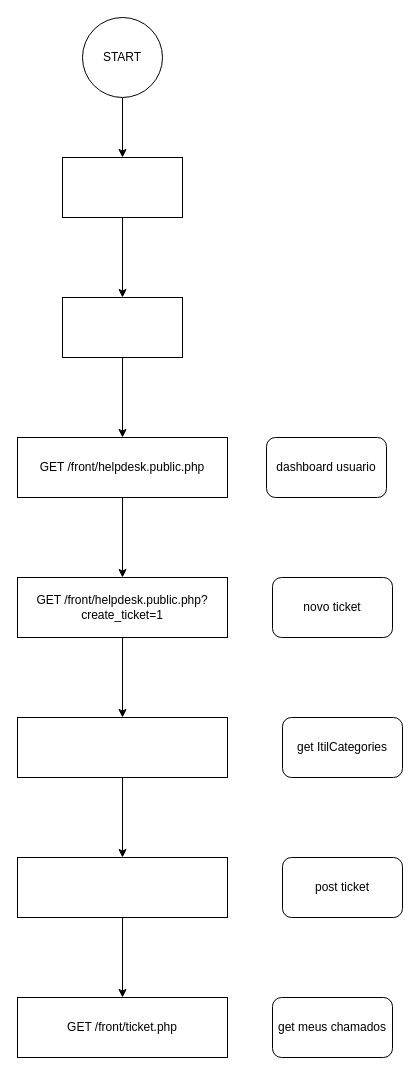
Some shapes in this 420 by 1075 pixel diagram are drawn without their labels. Here are the shapes that lost their labels. From the top down, the centre of each, then its label:
At (122,187): "GET /".
At (122,327): "POST /front/login.php".
At (122,747): "XMLHttpRequest POST /ajax/getDropdownValue.php".
At (122,887): "POST /front/tracking.injector.php".
